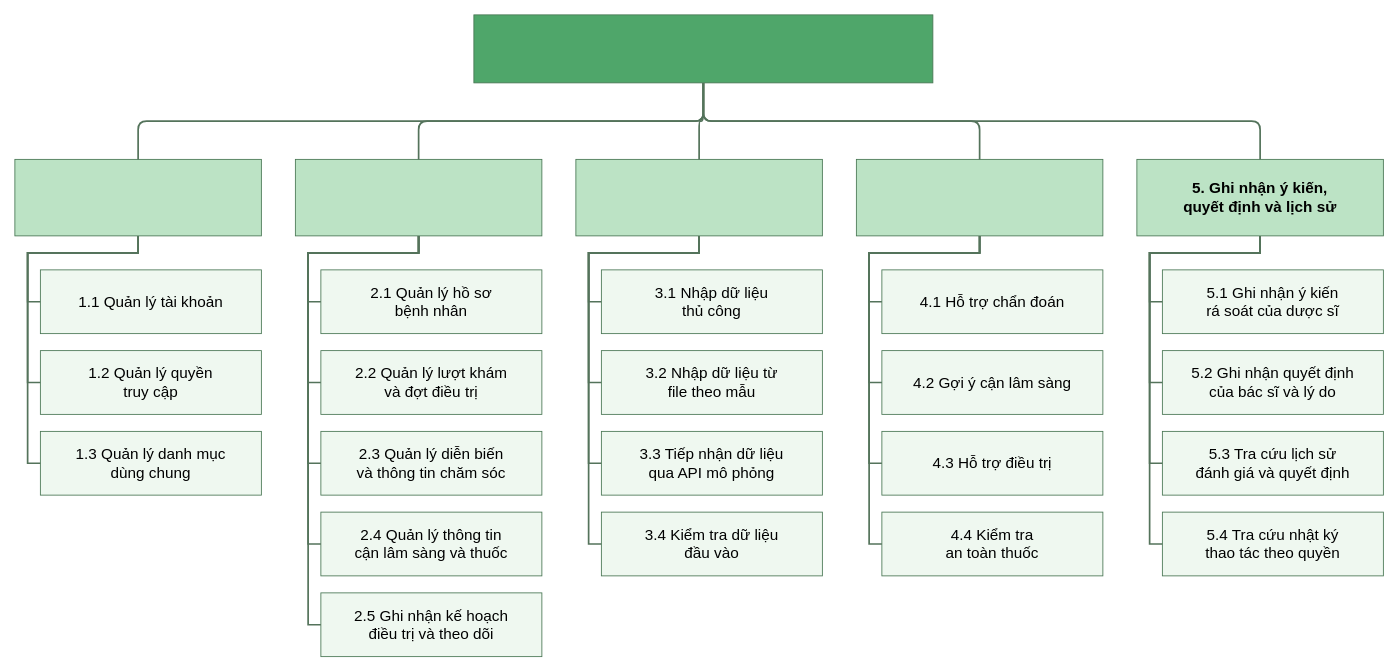
The diagram is 1398 pixels wide and 672 high, and some of its shapes have lost their labels. The centre of each missing label's shape, as x and y in pixels:
1. Quản trị hệ thống: (137,197)
2. Quản lý hồ sơ và quá trình khám, điều trị: (418,197)
3. Tiếp nhận và kiểm tra dữ liệu: (698,197)
4. Hỗ trợ chuyên môn: (979,197)
Quản lý bệnh nhân suy tim: (703,48)
